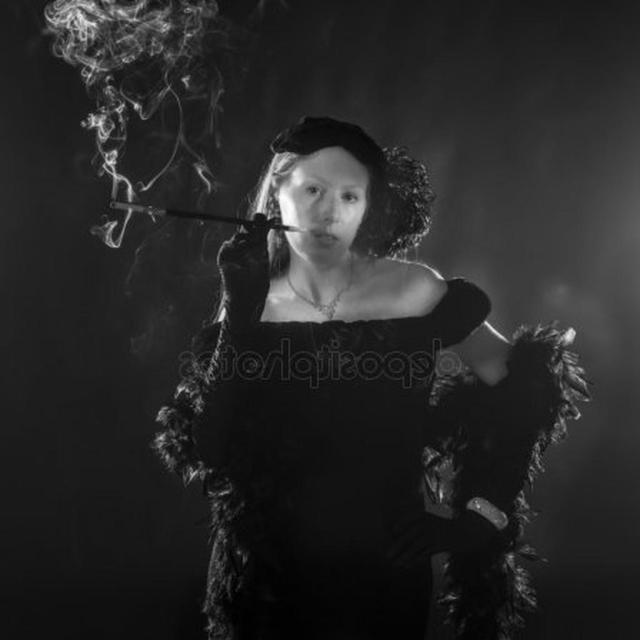smoking: (94, 138, 426, 293)
